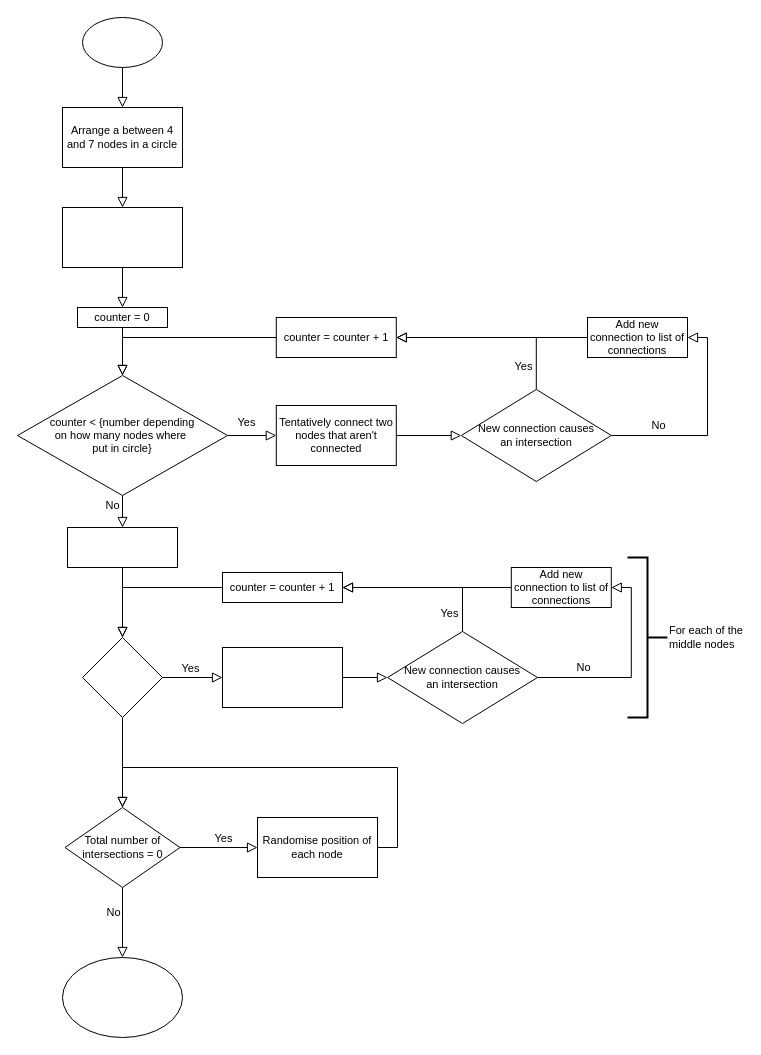
Some shapes in this 761 by 1055 pixel diagram are drawn without their labels. The box of each missing label's shape, as (x1, y1, x2, y2) in pixels:
Connect nodes around the circle to form a regular polygon: (62, 206, 182, 268)
counter < 10: (82, 636, 162, 718)
End: (62, 956, 182, 1038)
Place two new nodes in middle of circle, counter = 0: (66, 526, 178, 568)
Start: (82, 16, 162, 68)
Tentatively connect node to any other: (222, 646, 342, 708)
